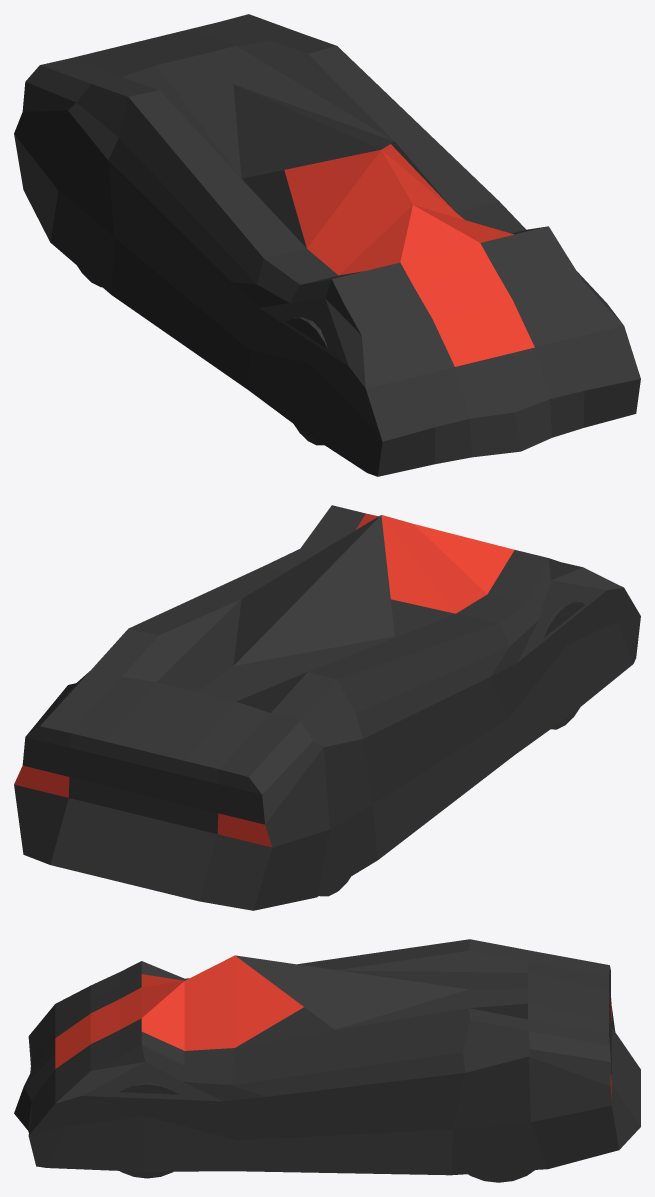
The model's file is fifth_model_Stealth_KKFLP.glb.
The picture shows the model from 3 angles, top to bottom: view 1: azimuth 30°, elevation 25°; view 2: azimuth 150°, elevation 25°; view 3: azimuth 270°, elevation 25°; orthographic projection. The views are drawn at different scales.
Parts seen in each view (by area): view 1: Cube.001, Cylinder; view 2: Cube.001, Cylinder; view 3: Cube.001, Cylinder.001, Cylinder.002.
Boxes of the visible parts, box(x1,y1,x2,y2) form: Cube.001: box(14, 14, 640, 476); Cylinder: box(286, 317, 327, 445); Cube.001: box(14, 505, 640, 910); Cylinder: box(543, 601, 584, 729); Cube.001: box(14, 939, 640, 1175); Cylinder.001: box(119, 1083, 178, 1178); Cylinder.002: box(461, 1081, 534, 1182).
Bounding box in the file's own units: 1.74 × 1.38 × 4.39.
